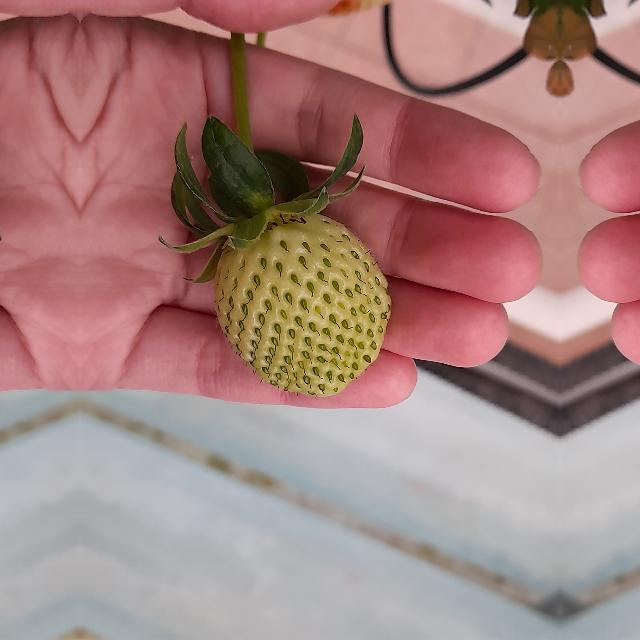Health_25: (214, 214, 392, 396)
